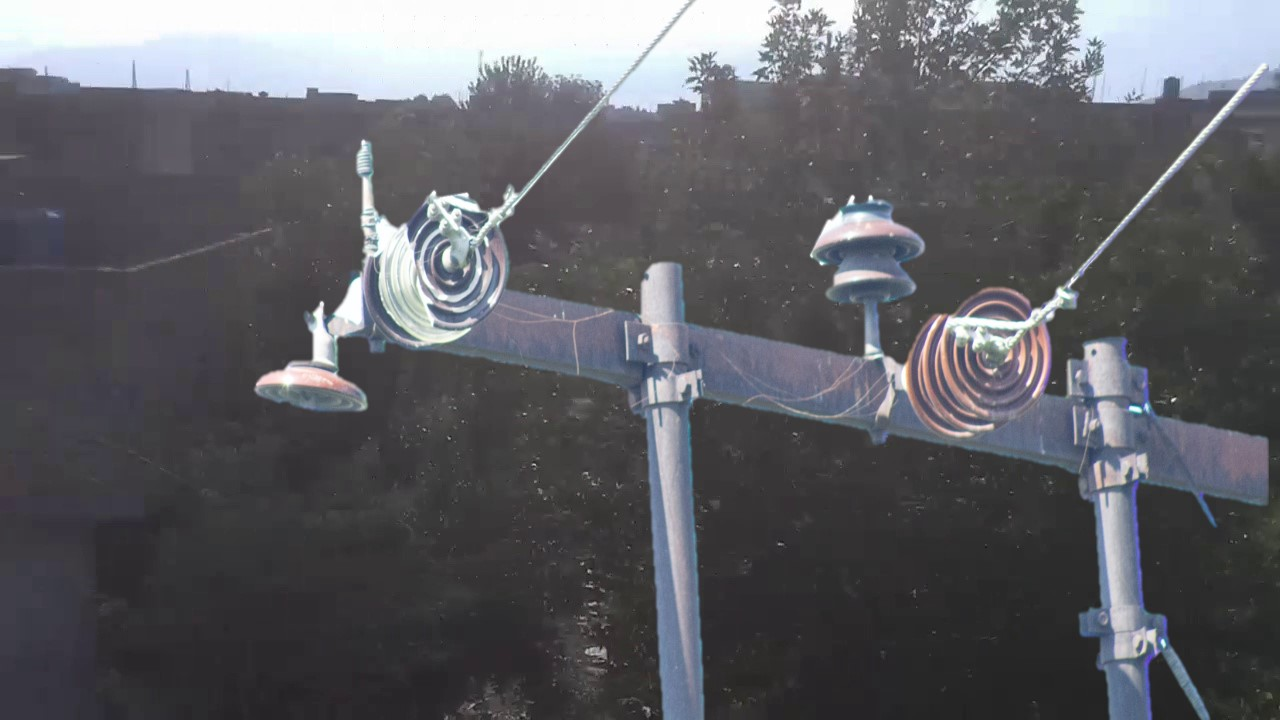defect_disc: (403, 183, 513, 334)
insulator_disc: (937, 282, 1058, 428), (251, 344, 374, 423)
